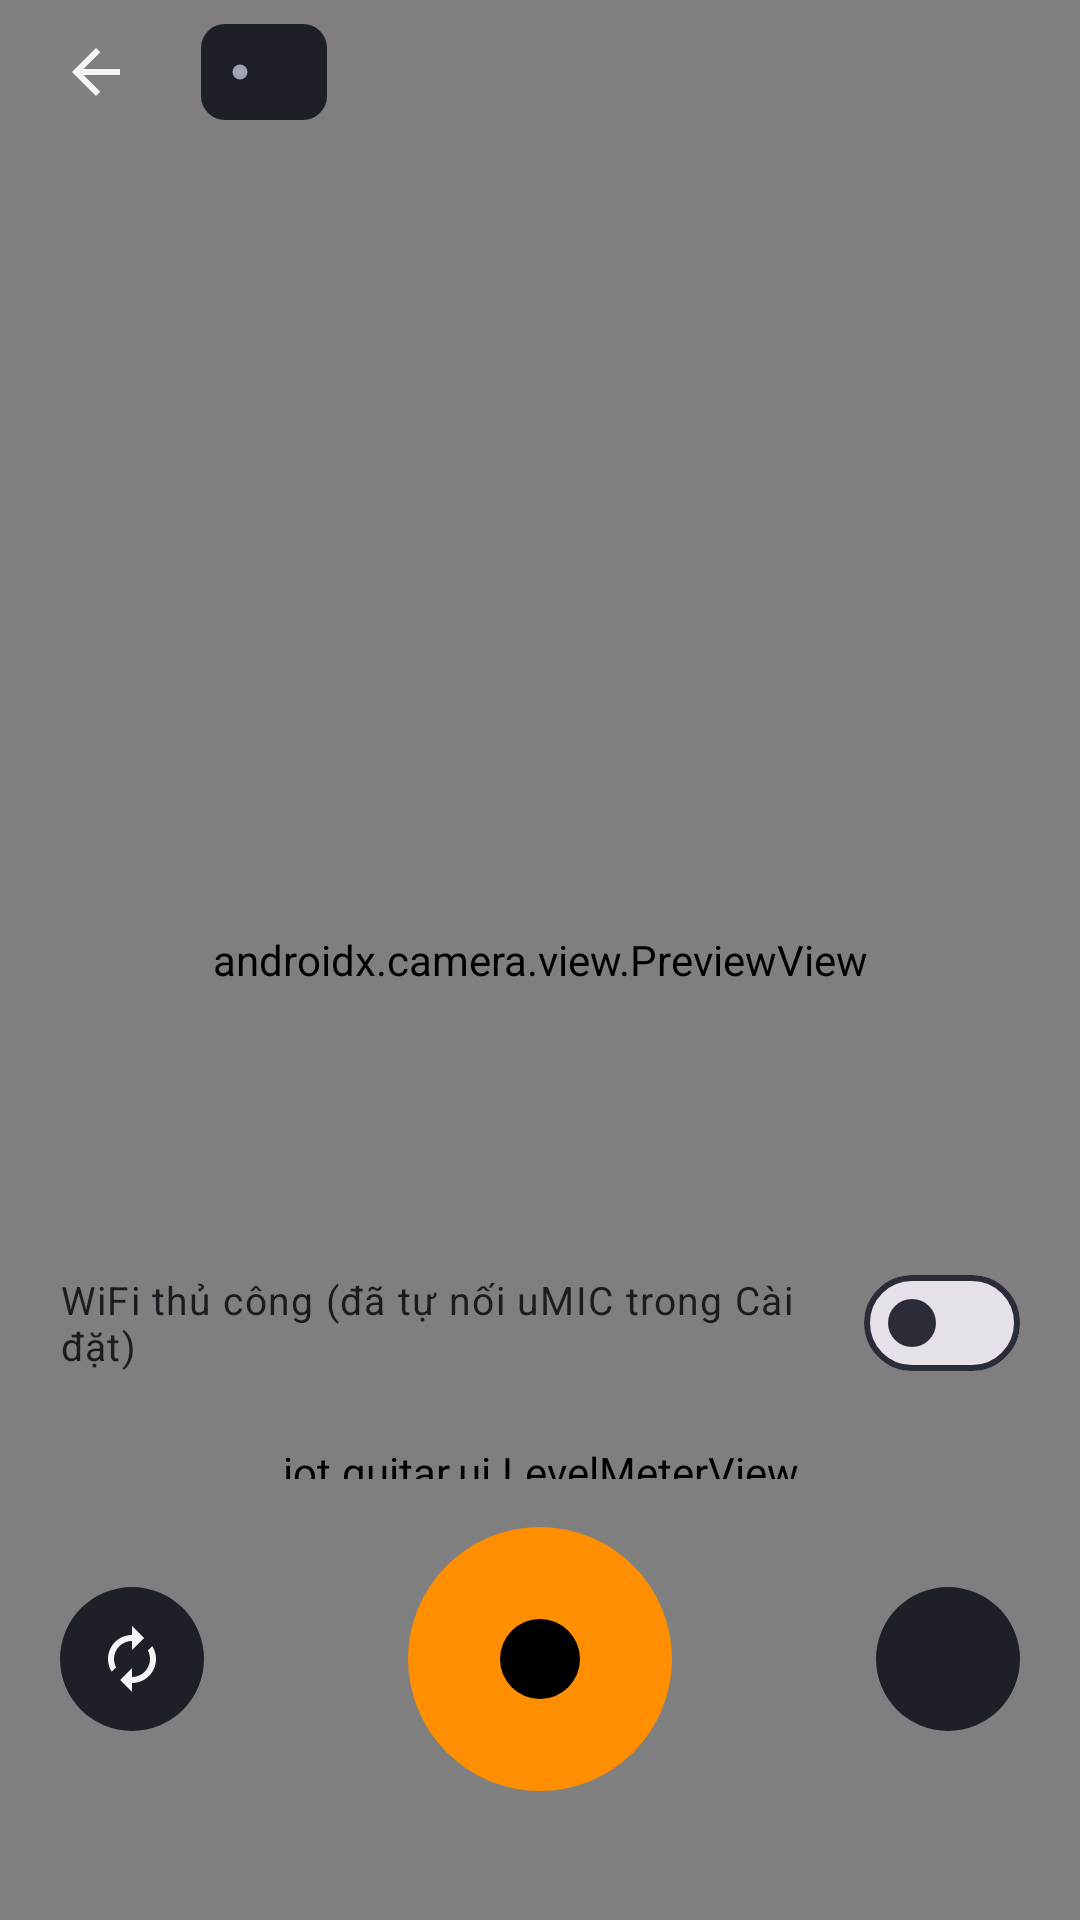

Icons on this 1080px x 1920px Android screen, each with its box as region(x1, y1, x2, y2):
Quay lại: region(72, 48, 120, 96)
Đổi camera: region(60, 1587, 204, 1731)
